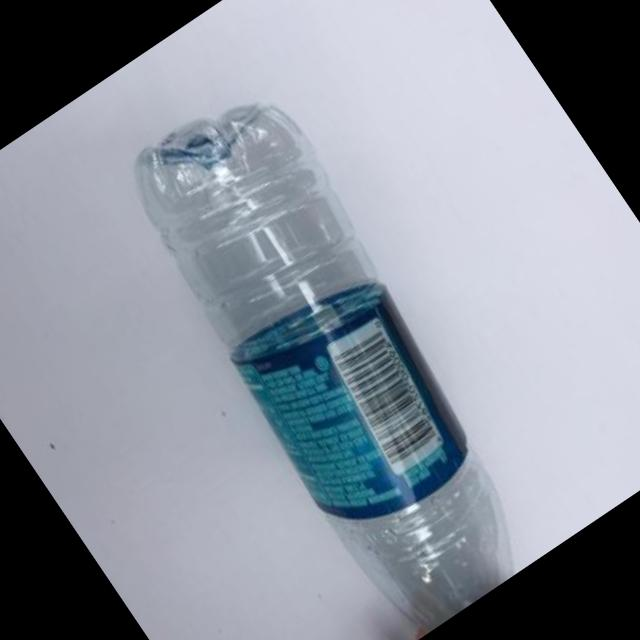BotolPlastik: (93, 66, 576, 640)
